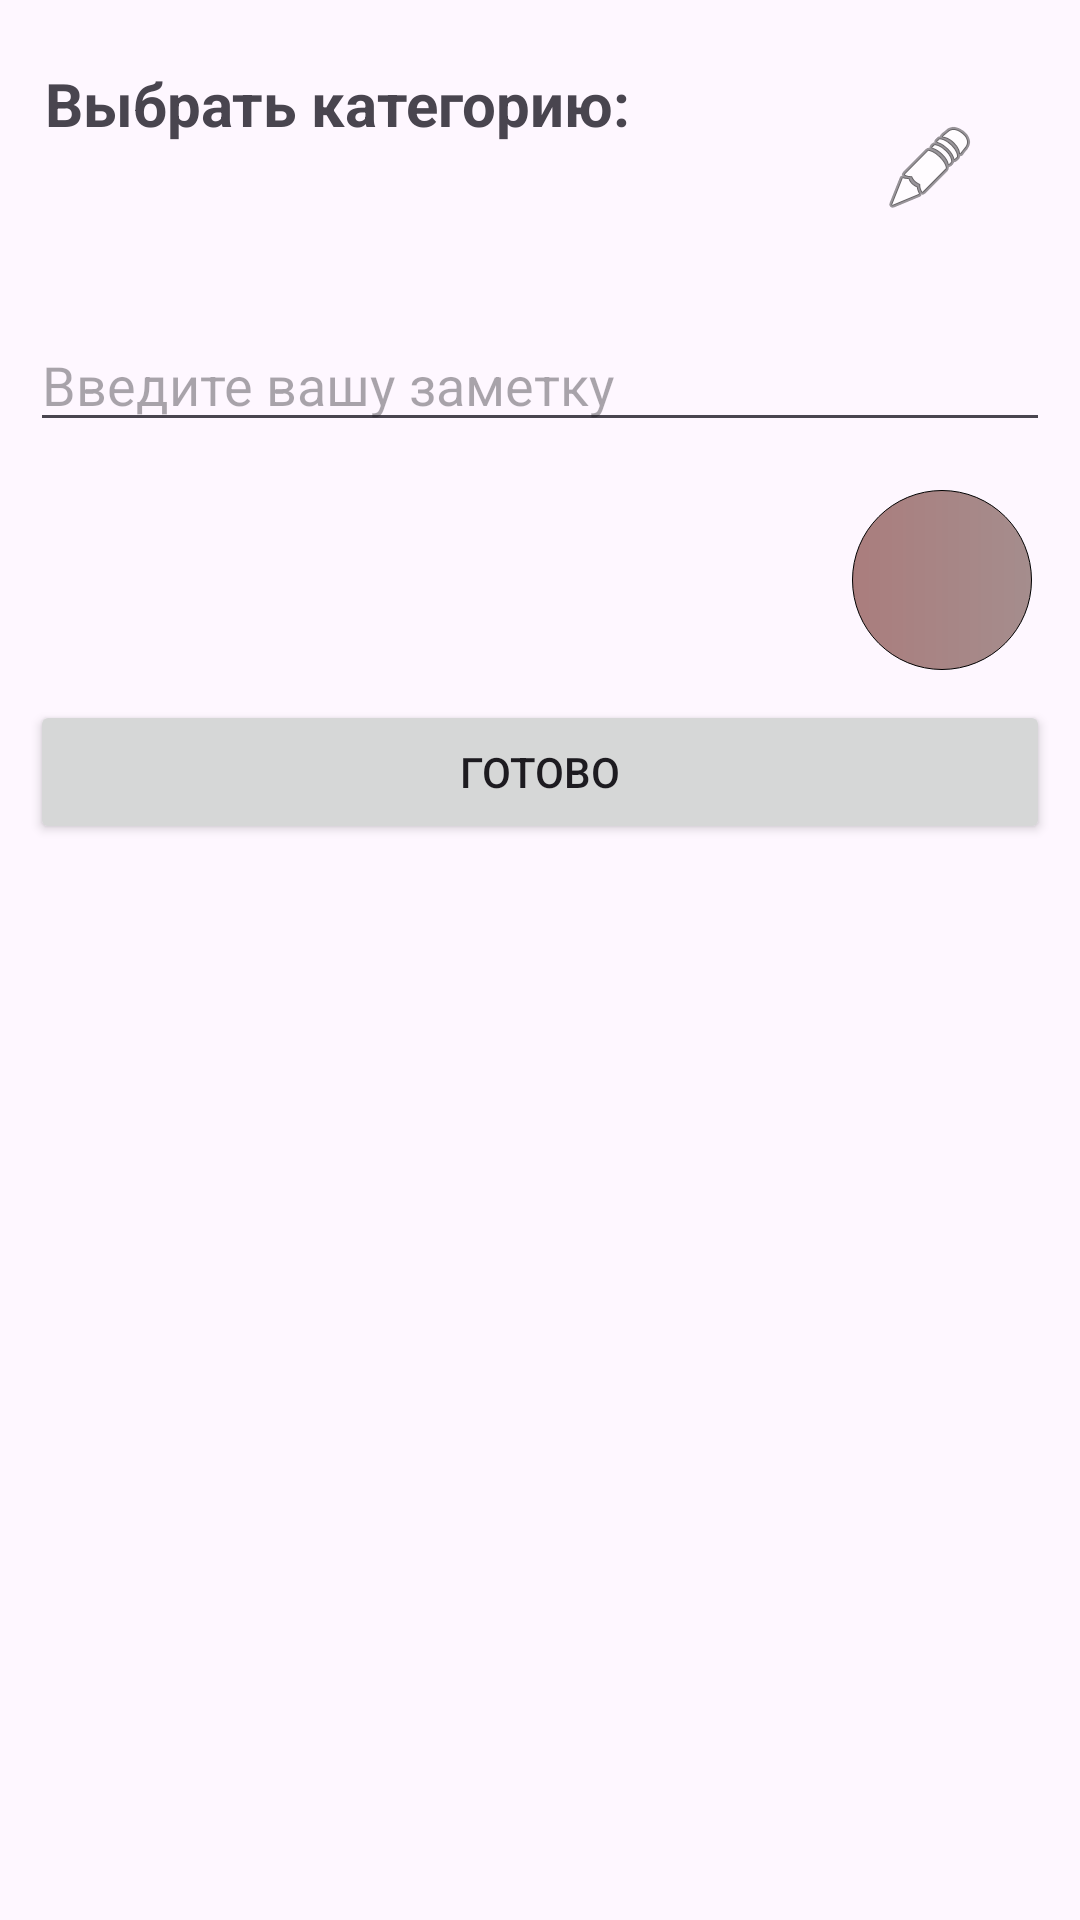

Where to tap for icons on this 1080px x 1920px app screen, as (x,y):
edit: (929,167)
